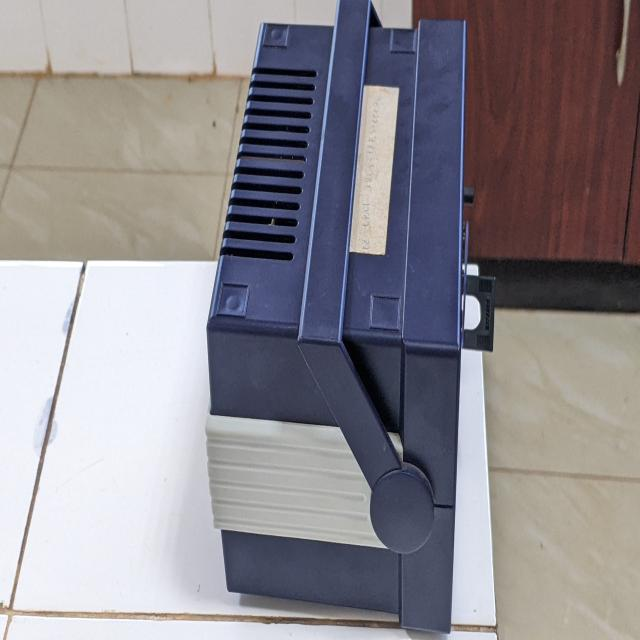Power Supply Stufentrafo_75VA: (196, 7, 502, 637)
